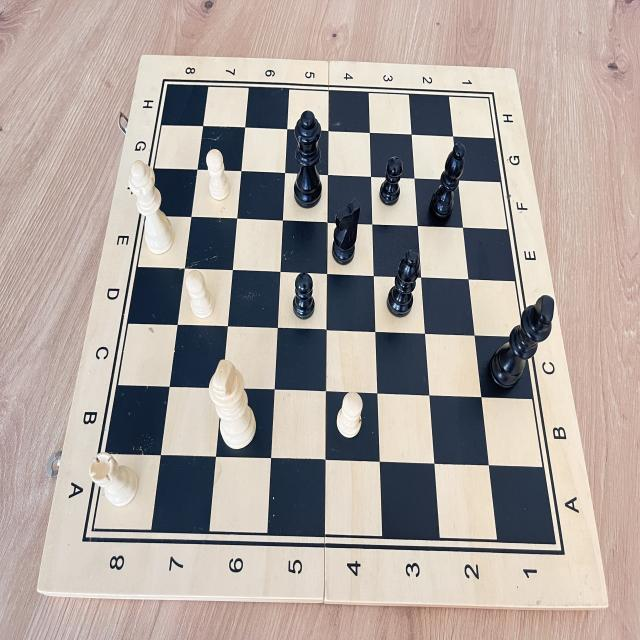black-bishop: (422, 134, 470, 226), (383, 240, 423, 323)
black-king: (480, 283, 562, 401)
black-knight: (324, 193, 365, 272)
black-pawn: (376, 151, 407, 213), (289, 266, 319, 324)
black-queen: (289, 104, 331, 213)
white-king: (206, 358, 260, 453)
white-pawn: (202, 142, 235, 209), (180, 264, 218, 322), (333, 383, 366, 446)
white-queen: (122, 158, 178, 258)
white-rook: (85, 447, 143, 509)
